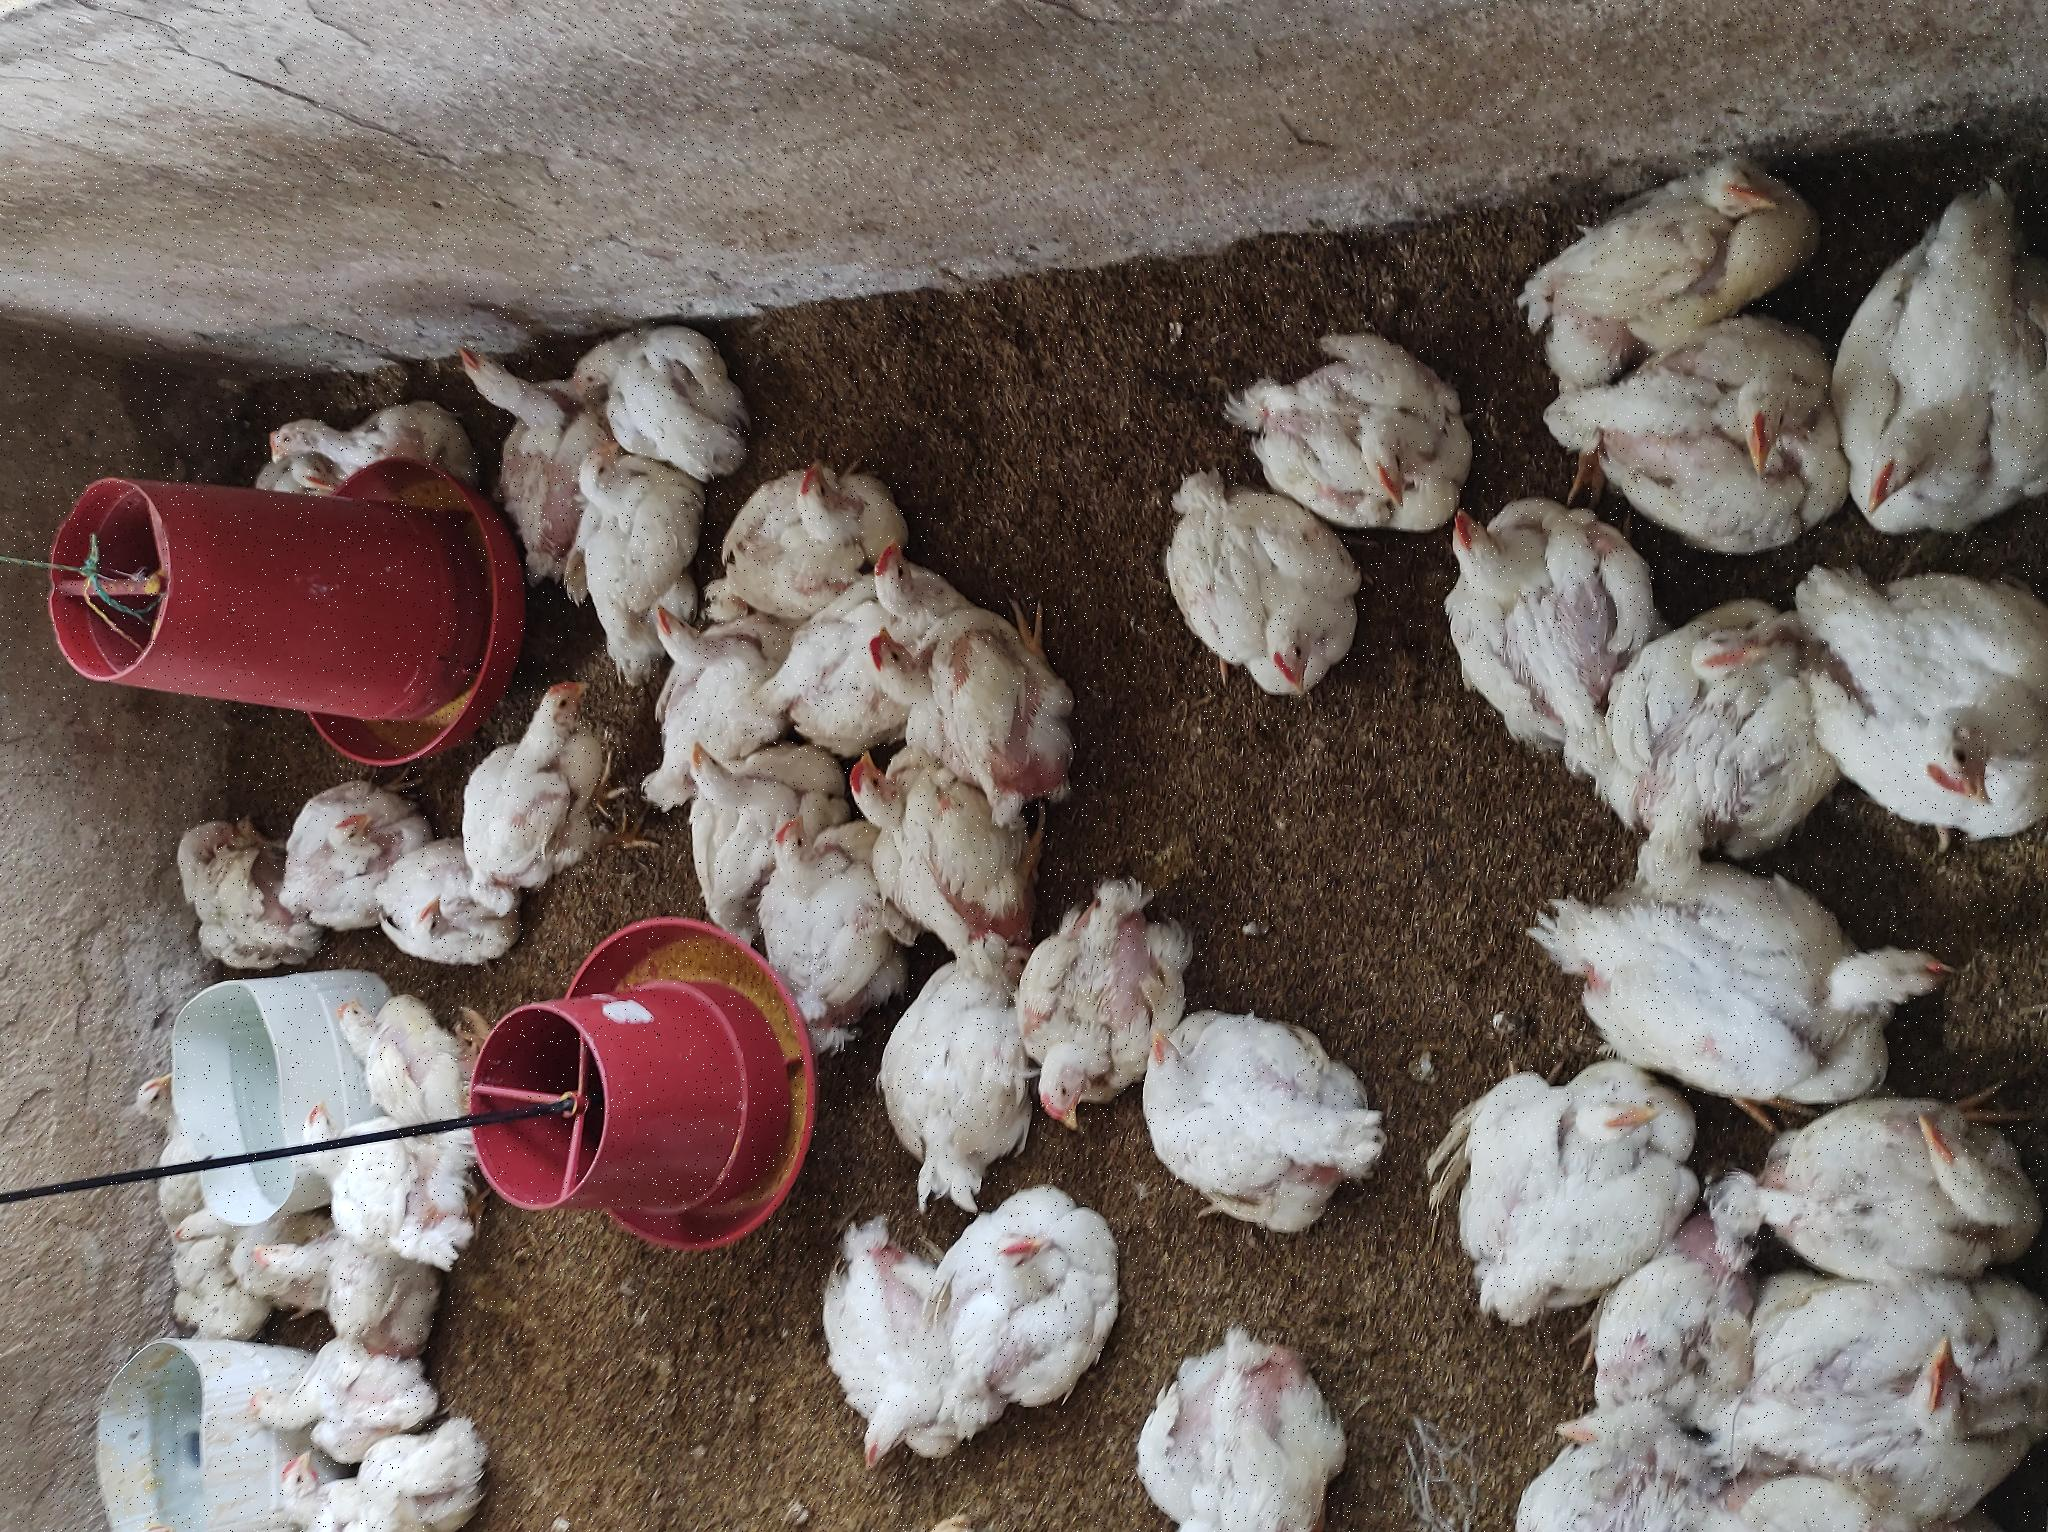Pollos: (808, 1138, 1084, 1371), (56, 756, 314, 990), (298, 1136, 523, 1392), (2, 1130, 224, 1344), (389, 1012, 644, 1199), (1026, 1241, 1211, 1474), (333, 887, 603, 1046), (103, 953, 354, 1123), (151, 1415, 502, 1532), (631, 463, 857, 631), (750, 1411, 1063, 1532), (970, 452, 1203, 566), (940, 721, 1081, 903), (907, 568, 1099, 689), (302, 298, 433, 475), (524, 755, 713, 875), (780, 864, 899, 1051), (607, 282, 764, 422), (2, 274, 97, 496), (631, 855, 787, 983), (93, 240, 203, 423), (557, 187, 726, 301), (1092, 566, 1215, 724), (565, 372, 698, 515), (426, 336, 544, 496), (204, 249, 306, 426), (1078, 261, 1145, 446), (658, 679, 808, 758), (841, 649, 928, 753), (381, 132, 491, 209), (904, 861, 996, 937), (277, 159, 333, 248), (1038, 277, 1092, 348)
